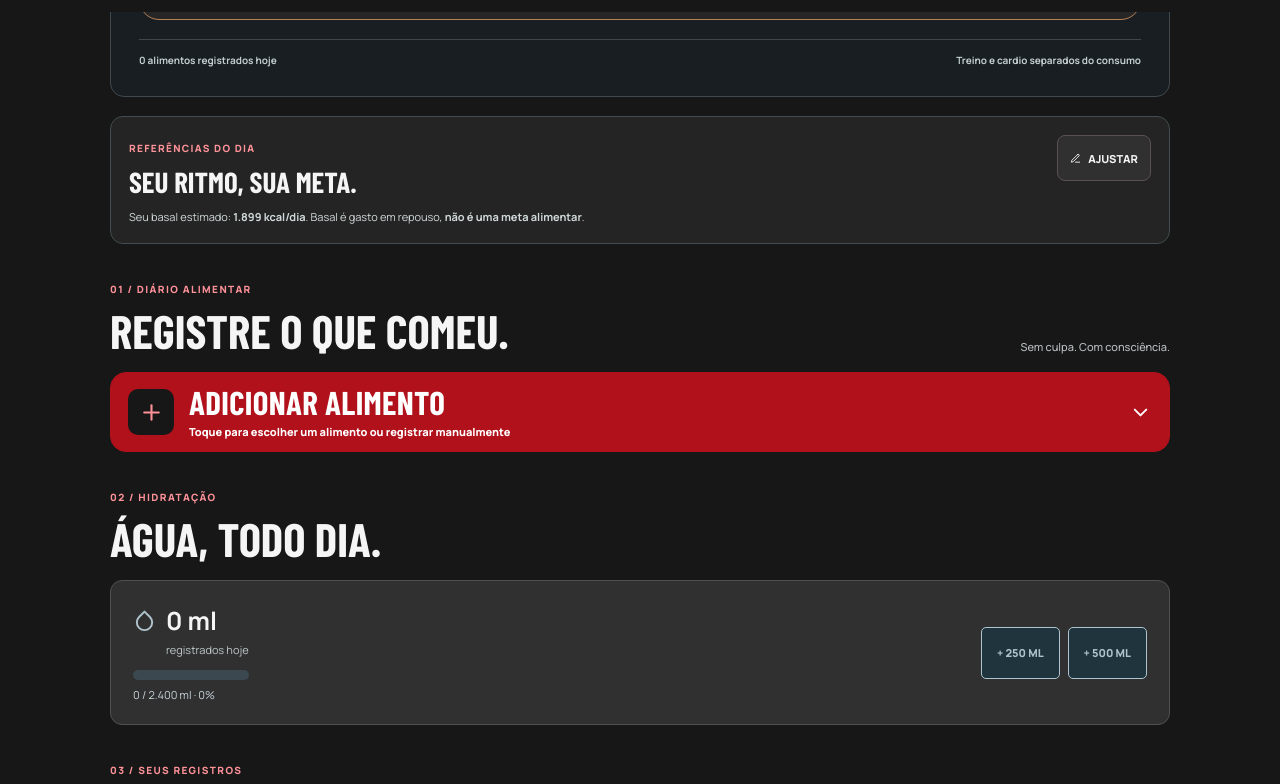
Test: alimentos começam fechados e abrem apenas quando o usuário pedir
The image size is (1280, 784).
(page scrolled)
Click the button named "ABRIR CATÁLOGO DE ALIMENTOS".
click(151, 412)  # box 110,372 -> 1170,452
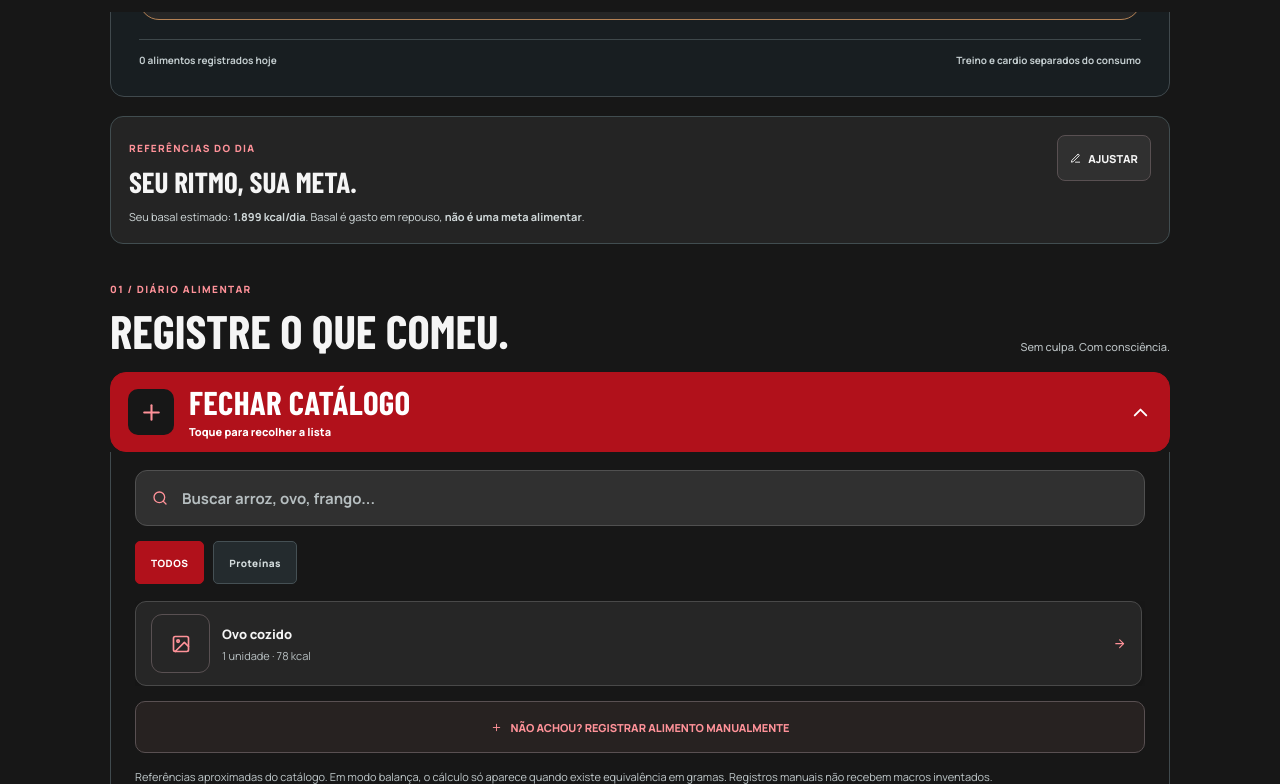
Expected: the button named "ABRIR CATÁLOGO DE ALIMENTOS" is expanded, 110,372 -> 1170,452
Expected: the search field named "Buscar alimento" is shown, 180,471 -> 1128,525
Click the button "Ovo cozido 1 unidade · 78 kcal".
click(180, 644)  # box 135,601 -> 1142,686
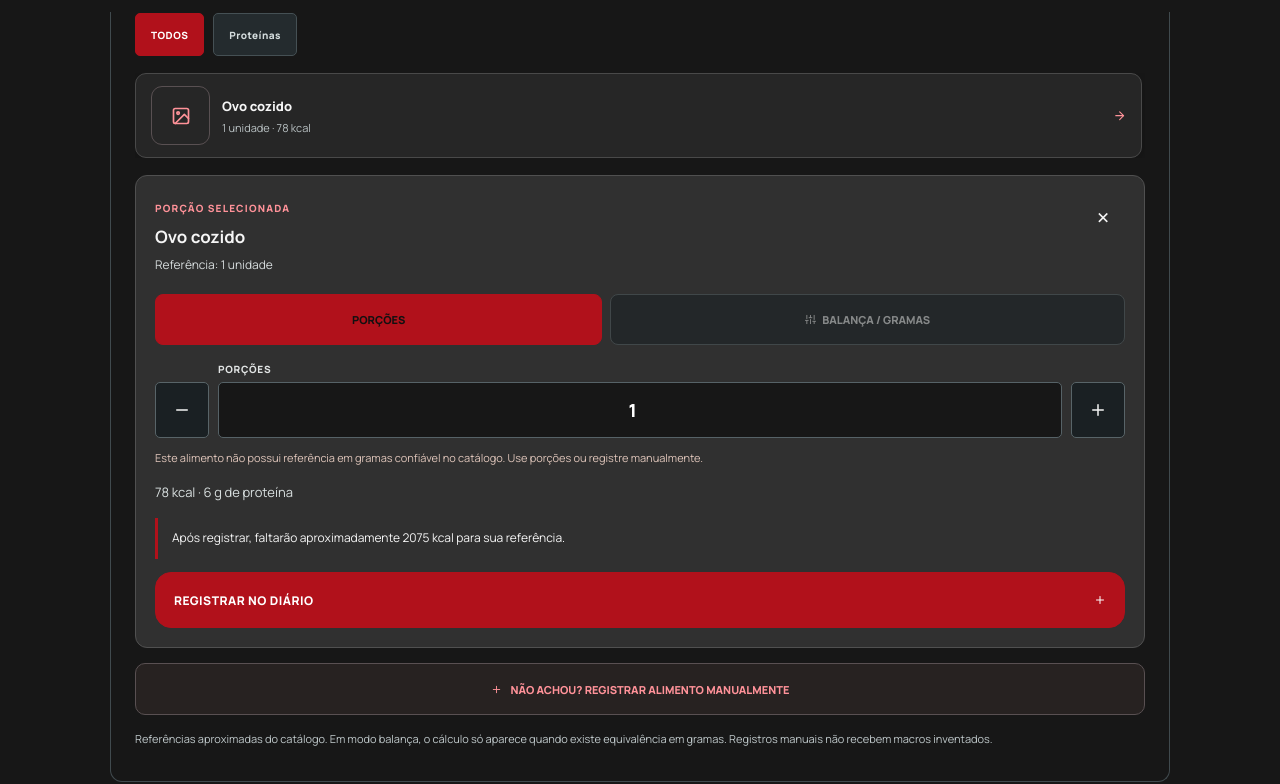
Expected: the number field named "Quantidade de porções" is shown, 218,382 -> 1062,438
